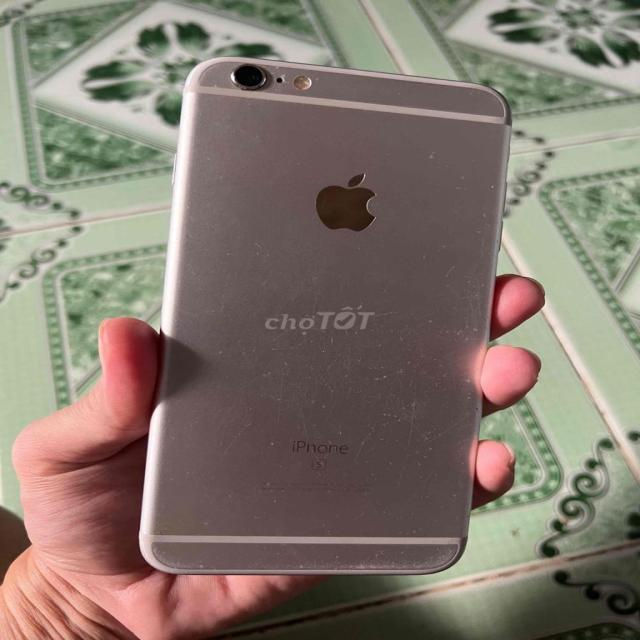gen_6: (143, 46, 529, 581)
